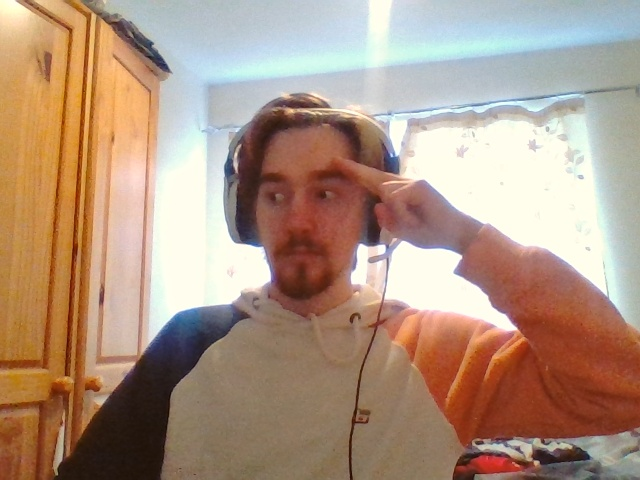name: (332, 157, 433, 238)
